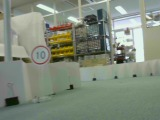speed_10: (28, 44, 51, 66)
